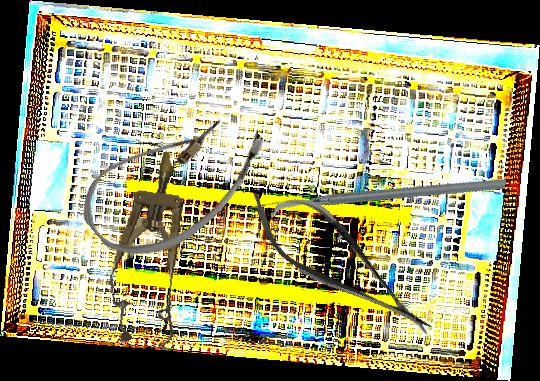Cannula: (67, 78, 282, 283)
Chopper: (269, 112, 508, 286)
Micro Scissor: (232, 167, 450, 361)
Speculum: (100, 146, 204, 352)
